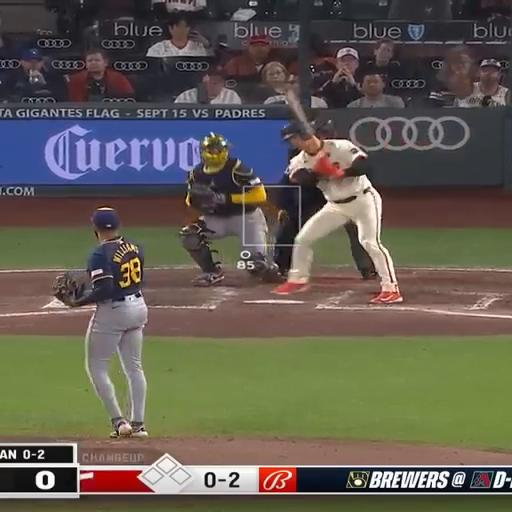bat: (285, 88, 314, 135)
